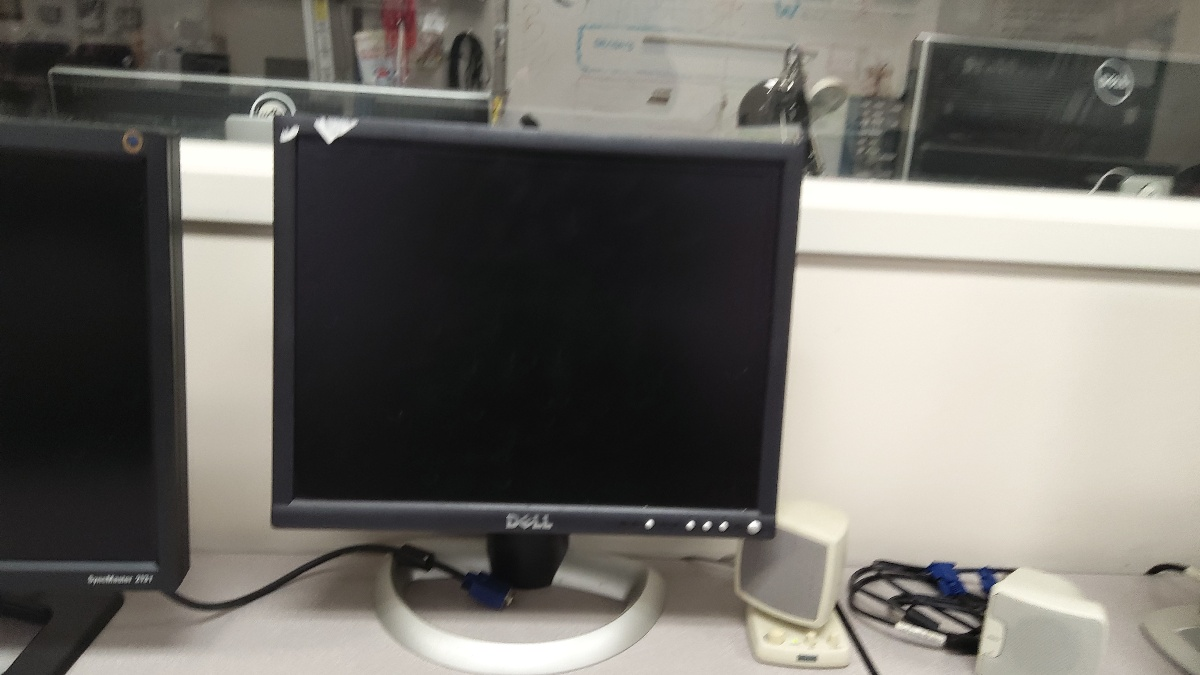monitor: (266, 108, 811, 547)
